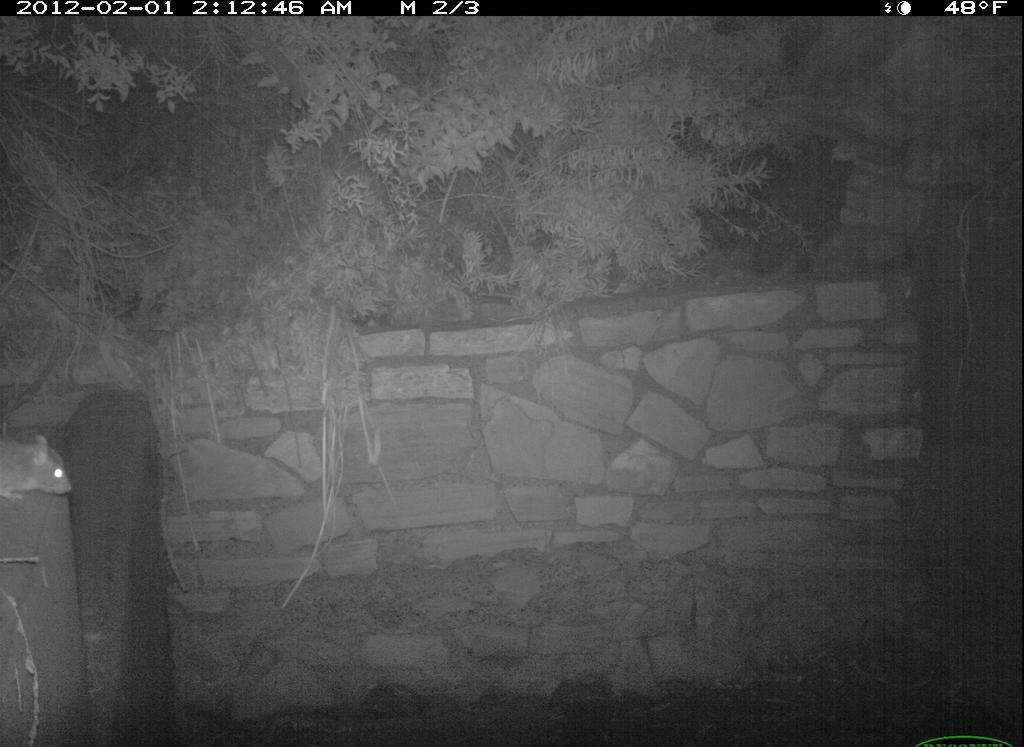rodent: (1, 422, 82, 517)
